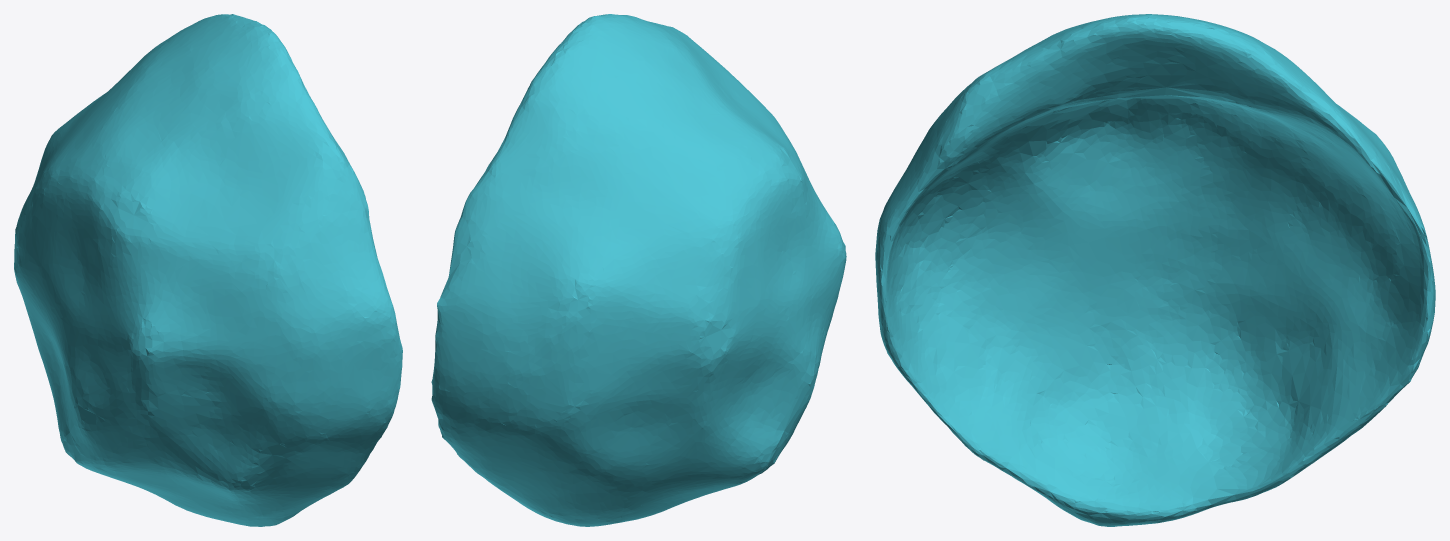
The picture shows the model from 3 angles, left to right: view 1: azimuth 30°, elevation 25°; view 2: azimuth 150°, elevation 25°; view 3: azimuth 270°, elevation 25°; orthographic projection. The views are drawn at different scales.
Parts seen in each view (by area): view 1: Renderer Node; view 2: Renderer Node; view 3: Renderer Node.
Part boxes in pixels (bbox=[...]): Renderer Node: bbox=[14, 14, 402, 526]; Renderer Node: bbox=[431, 14, 846, 526]; Renderer Node: bbox=[875, 14, 1435, 526].
Size of the model in its own units: 0.3365 by 0.6737 by 0.6616.
Materials: 1 (1 with a texture image).
